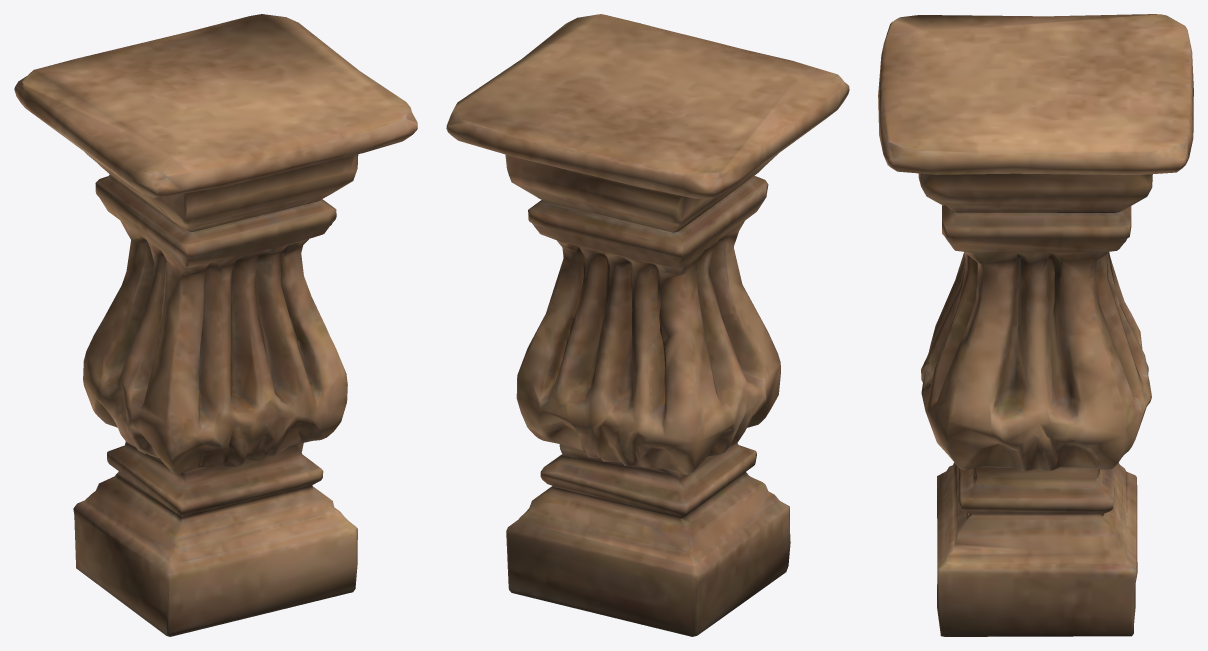
File: ornate-sandstone-balustrade-v001.glb
The picture shows the model from 3 angles, left to right: view 1: azimuth 30°, elevation 25°; view 2: azimuth 150°, elevation 25°; view 3: azimuth 270°, elevation 25°; orthographic projection. The views are drawn at different scales.
Visible parts, largest first — view 1: ornate-sandstone-balustrade; view 2: ornate-sandstone-balustrade; view 3: ornate-sandstone-balustrade.
Part boxes in pixels (x1,y1,x2,y2): ornate-sandstone-balustrade: (14, 14, 417, 636); ornate-sandstone-balustrade: (446, 14, 849, 636); ornate-sandstone-balustrade: (878, 14, 1193, 636).
Bounding box in the file's own units: 0.5703 × 0.957 × 0.5379.
1 material, 1 textured.
